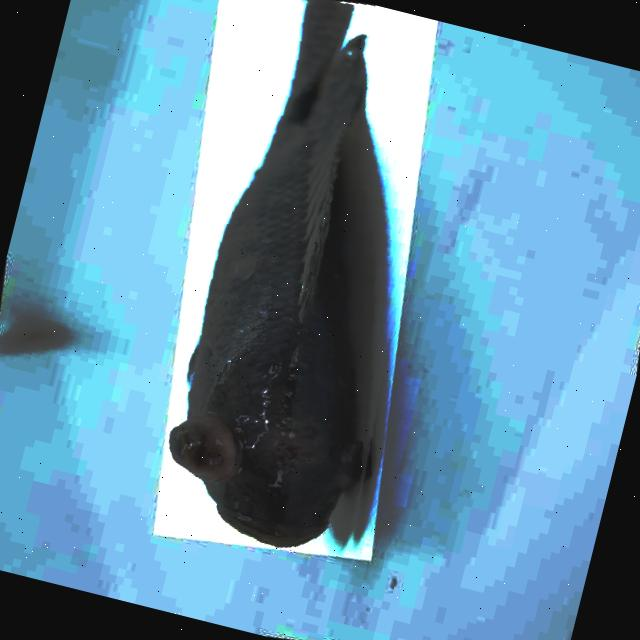Streptococcus: (172, 1, 372, 546)
